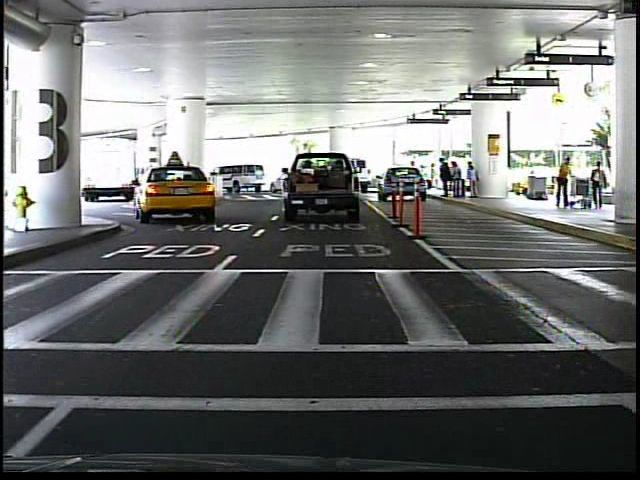person: (553, 154, 577, 212), (589, 158, 610, 212), (406, 158, 421, 193)
